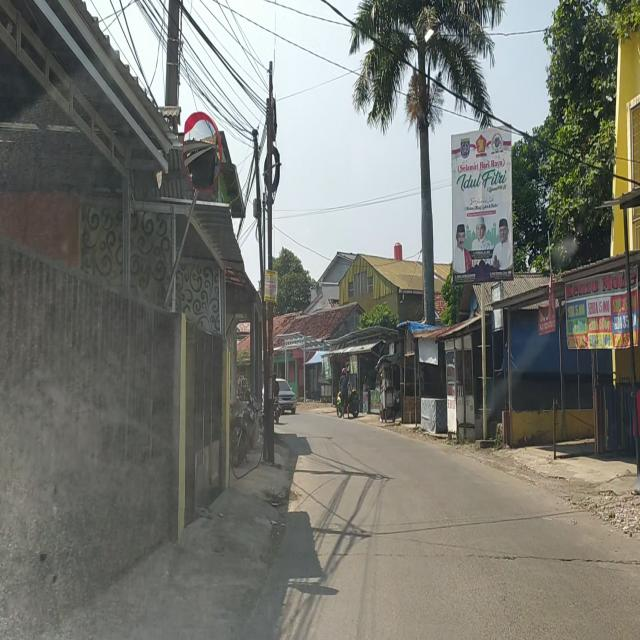Sewer Cover: (466, 552, 633, 568)
